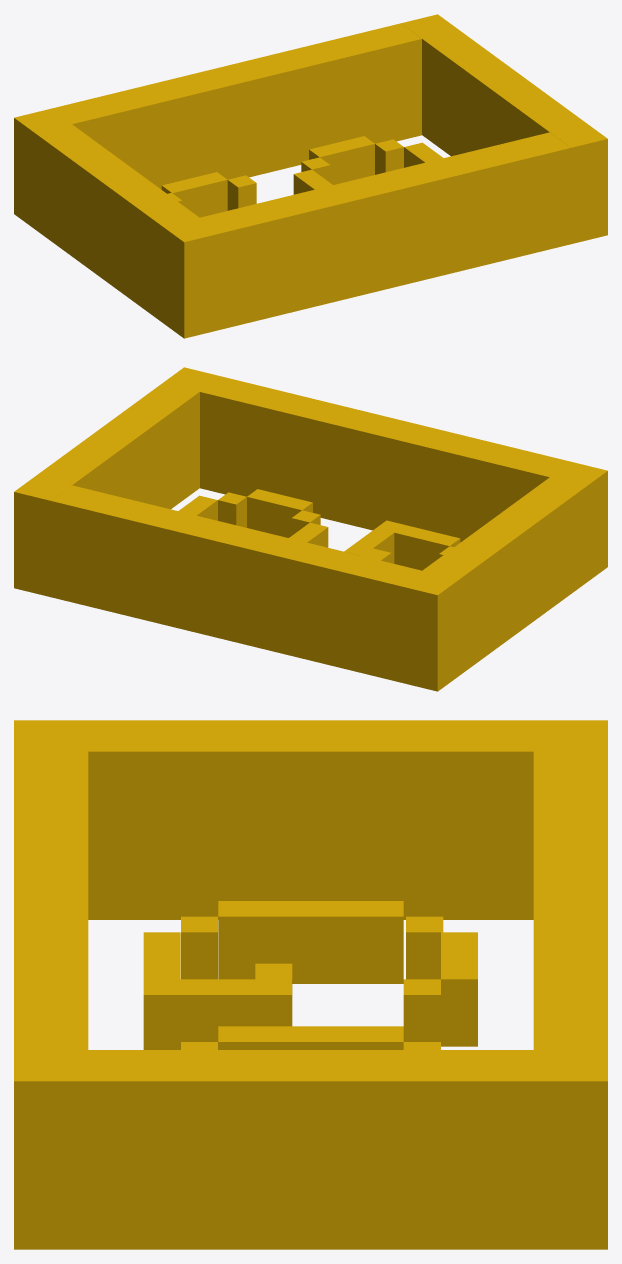
3 views of the same model, one above another, from view 1: azimuth 30°, elevation 25°; view 2: azimuth 150°, elevation 25°; view 3: azimuth 270°, elevation 25° (orthographic). The views are drawn at different scales.
Parts seen in each view (by area): view 1: Cube.002, Cube.015, Cube.005; view 2: Cube.002, Cube.015, Cube.005; view 3: Cube.002, Cube.005, Cube.015.
Part boxes in pixels (x1,y1,x2,y2): Cube.002: [14, 14, 607, 338]; Cube.015: [293, 136, 443, 194]; Cube.005: [161, 172, 256, 217]; Cube.002: [14, 367, 607, 691]; Cube.015: [178, 489, 328, 547]; Cube.005: [344, 520, 460, 570]; Cube.002: [14, 720, 607, 1249]; Cube.005: [143, 901, 477, 1049]; Cube.015: [181, 1026, 440, 1049].
Bounding box in the file's own units: 2300 × 550 × 1600.
